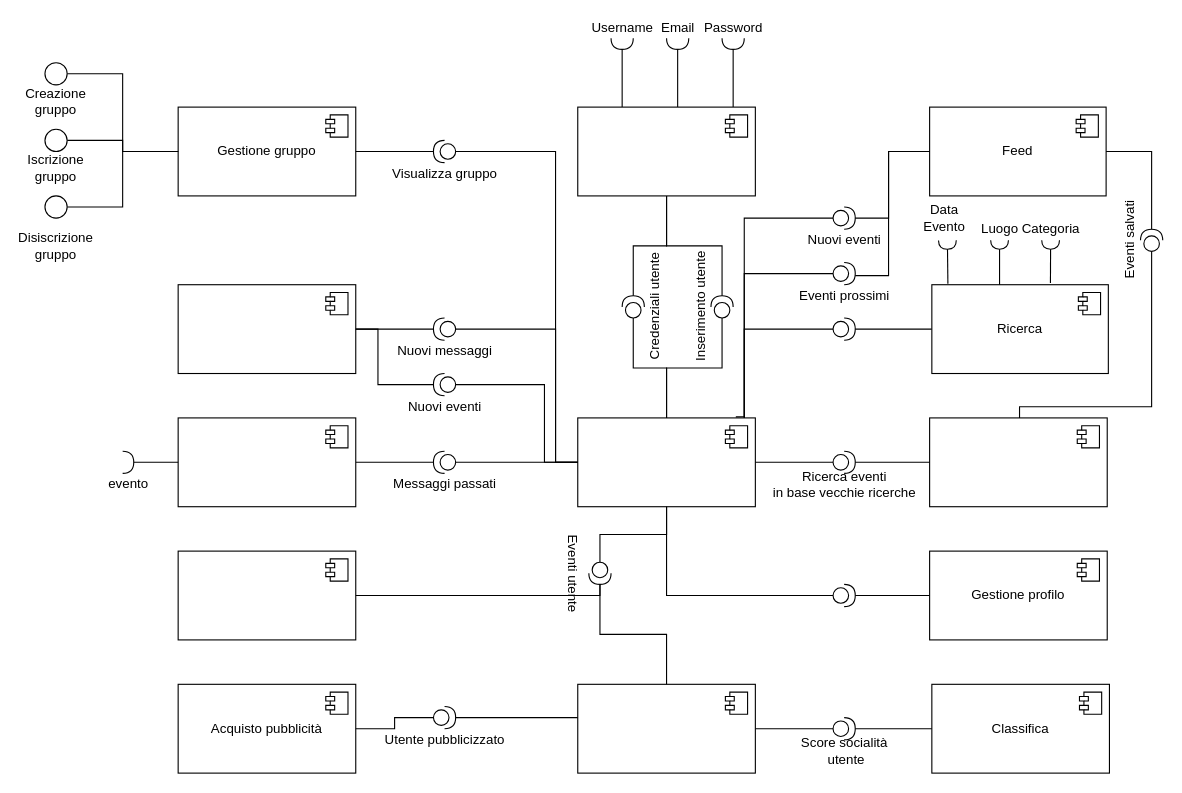
Image size: 1182x793. Some labels were removed from this diagram. The centre of each missing label's shape, as x and y in pixels:
"Accesso/Registrazione utente" belongs at (666,151).
"Calcolatore score (affidabilità e socialità)" belongs at (666,728).
"Chat evento" belongs at (266,462).
"Eventi di interesse" belongs at (1018,462).
"Eventi disponibili" belongs at (843,328).
"Eventi organizzati" belongs at (266,595).
"Gestione database" belongs at (666,462).
"Invio notifiche" belongs at (266,329).
"Modifica dati utente" belongs at (843,595).
